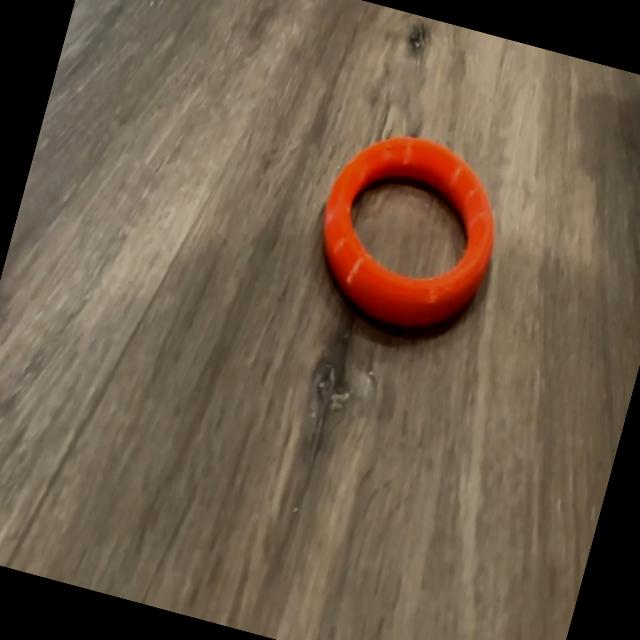note: (299, 116, 516, 345)
